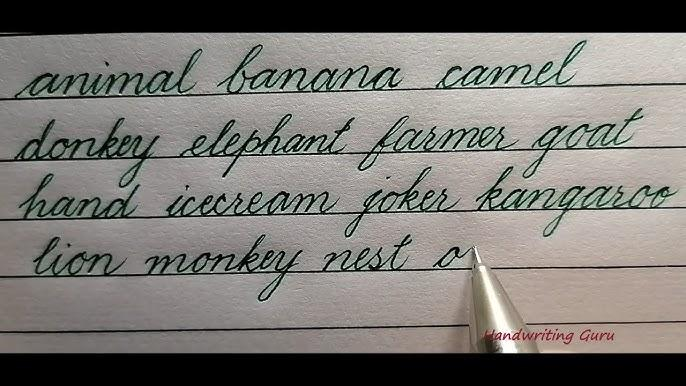text: (13, 104, 645, 189), (18, 163, 682, 241), (12, 37, 588, 101), (31, 232, 475, 305), (479, 326, 616, 347)
